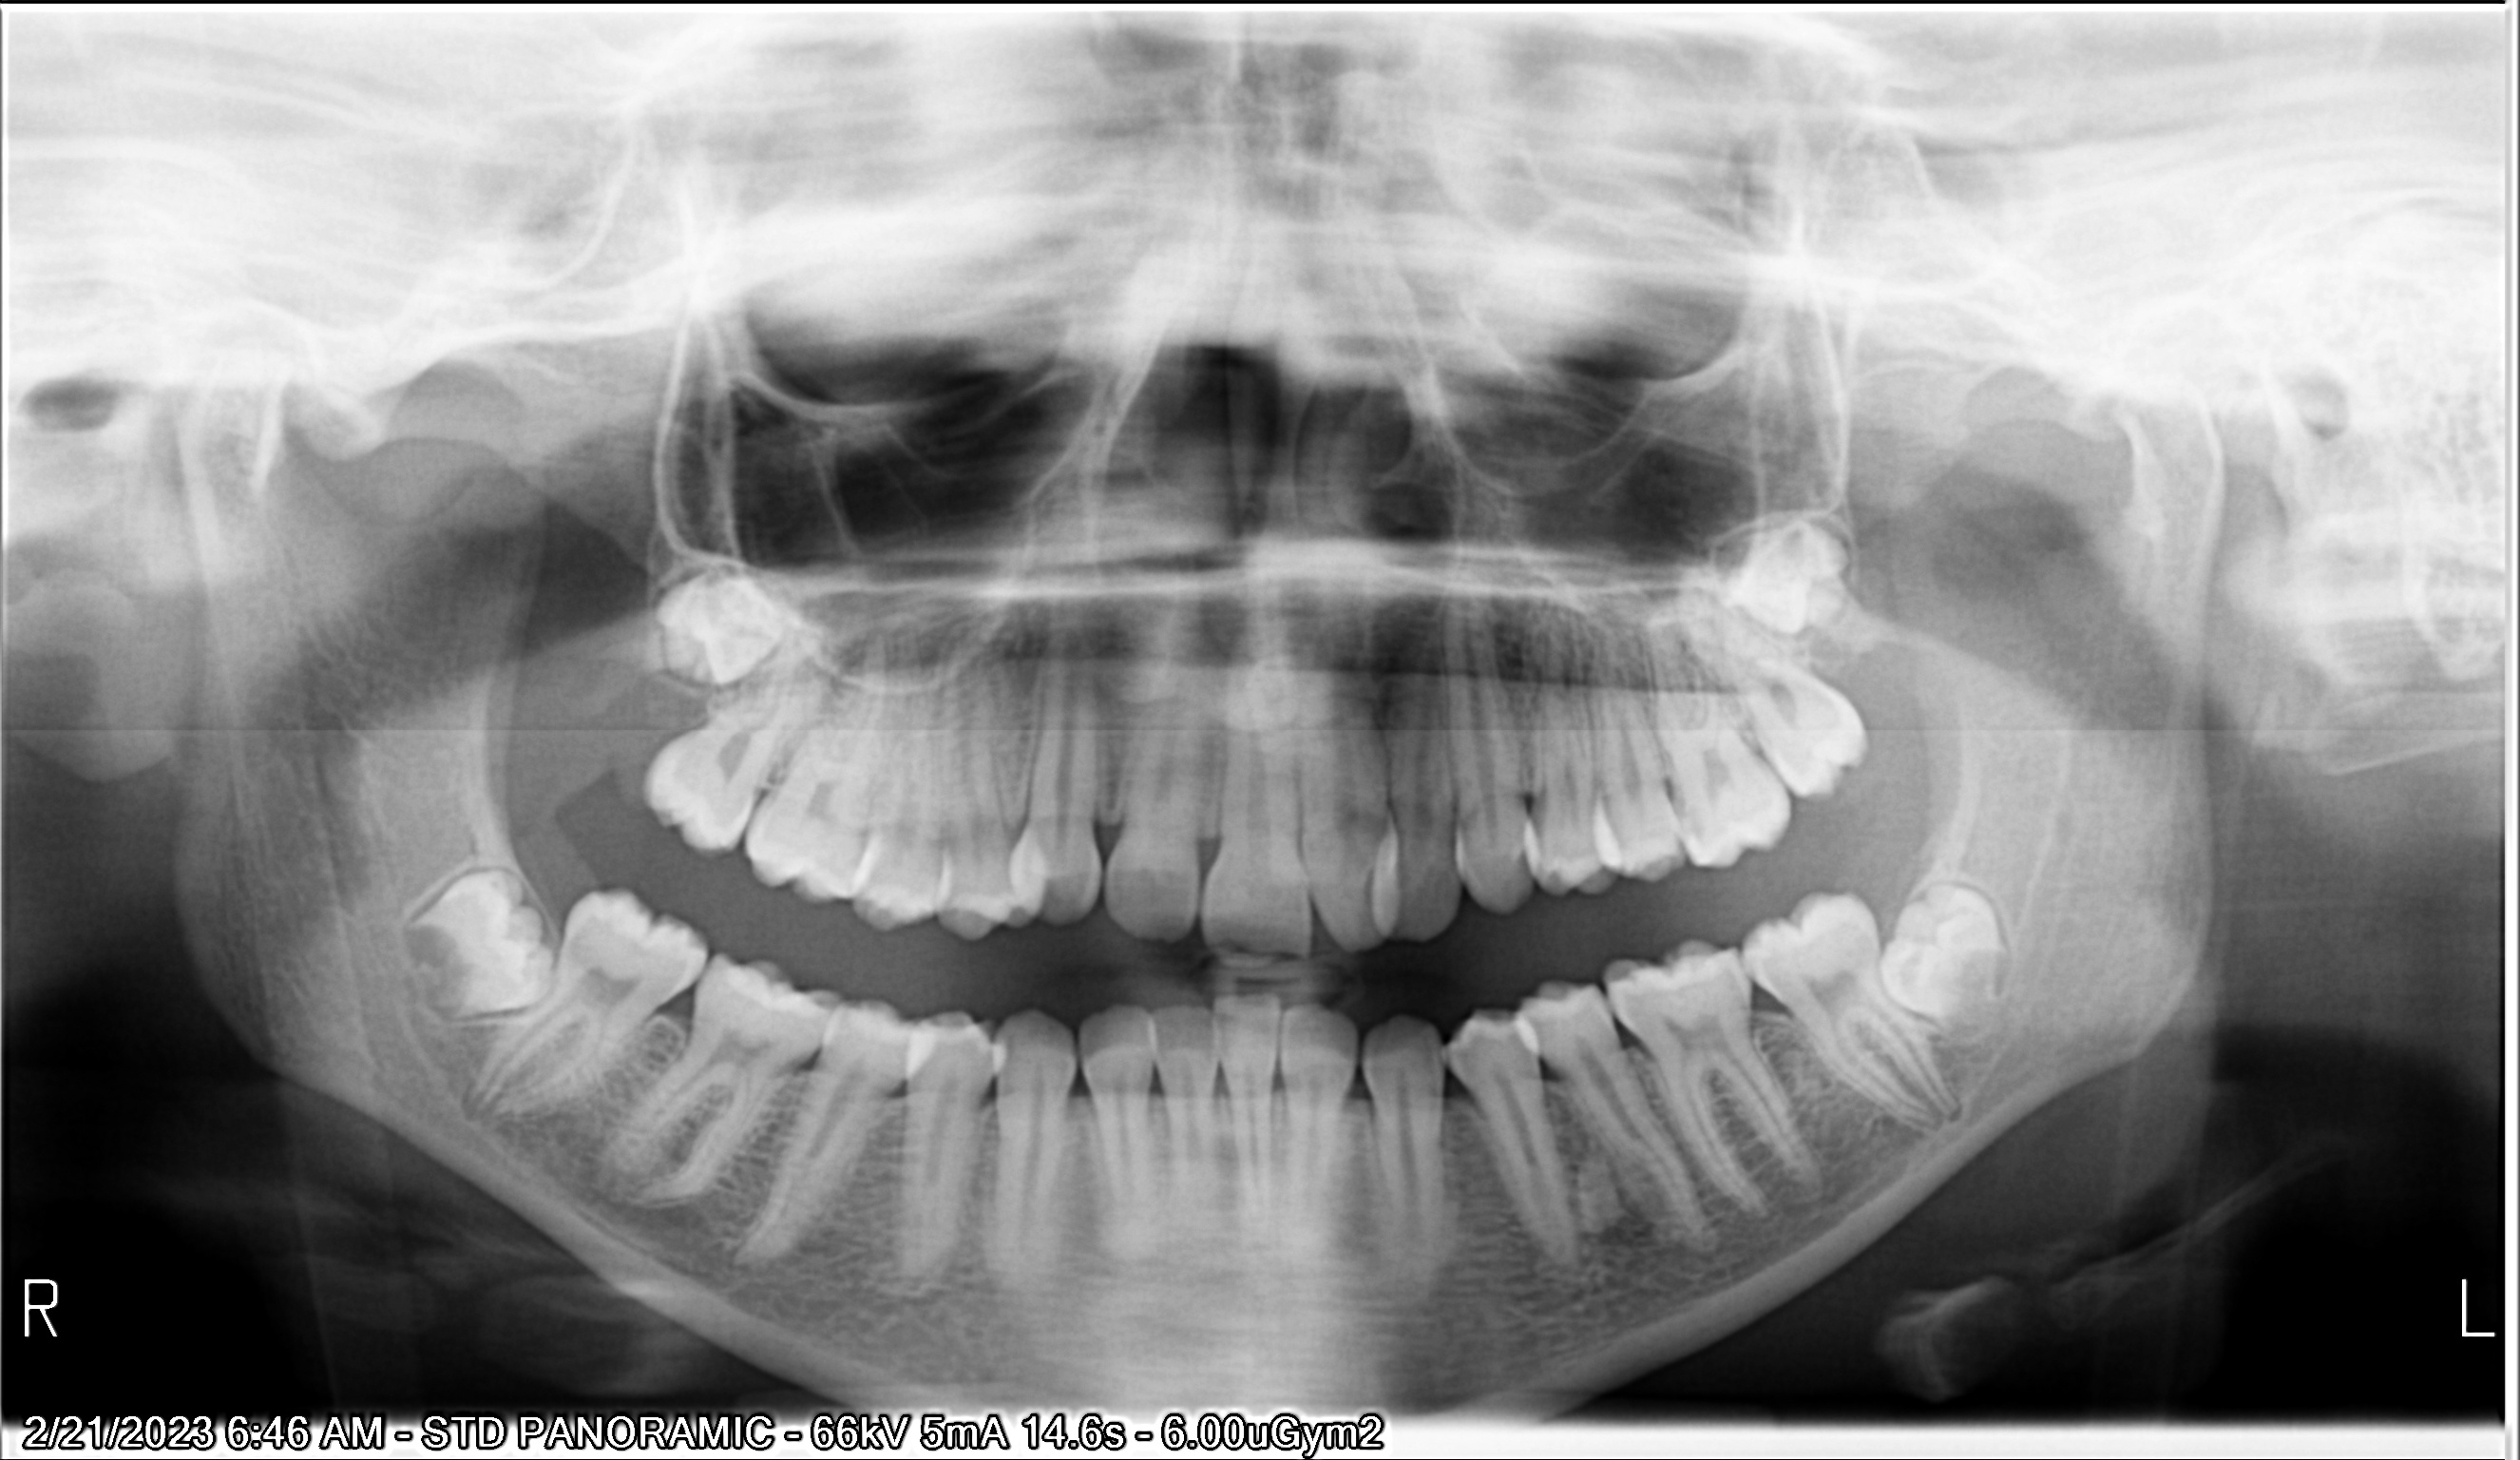IMT: (1867, 866, 2053, 1034), (394, 853, 568, 1027), (1704, 508, 1884, 657), (634, 544, 802, 697)
